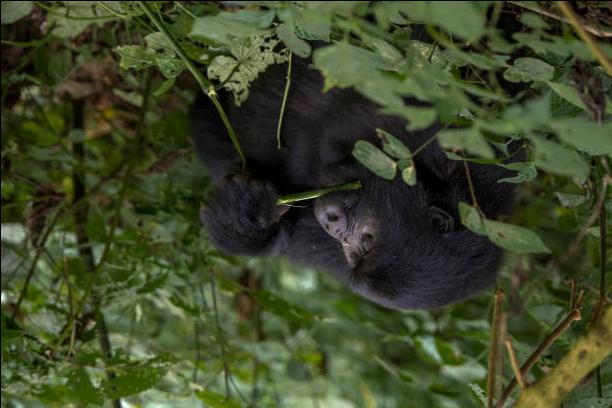goriile_montagne: (183, 75, 502, 319)
